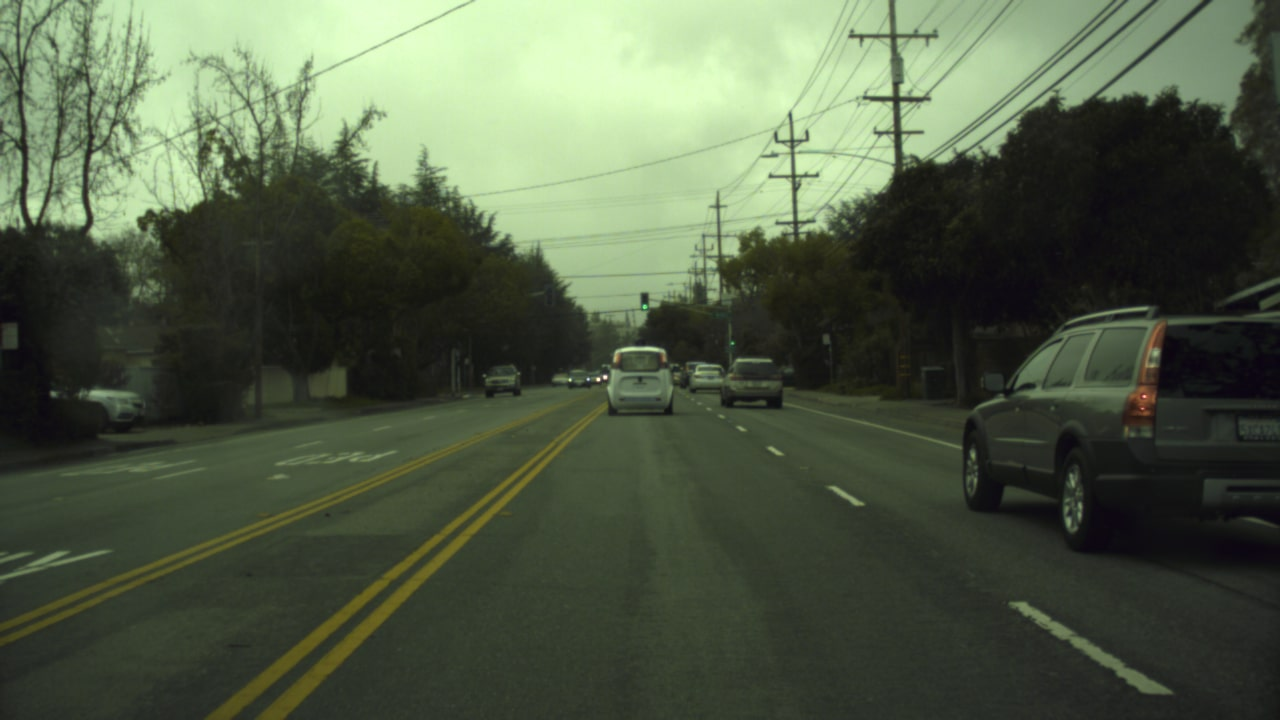signal: (637, 289, 652, 314), (727, 334, 737, 349)
